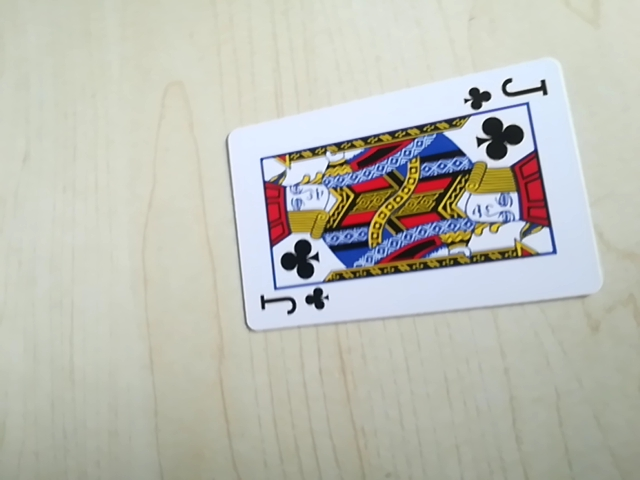mh j: (250, 282, 329, 328), (462, 75, 553, 114)
